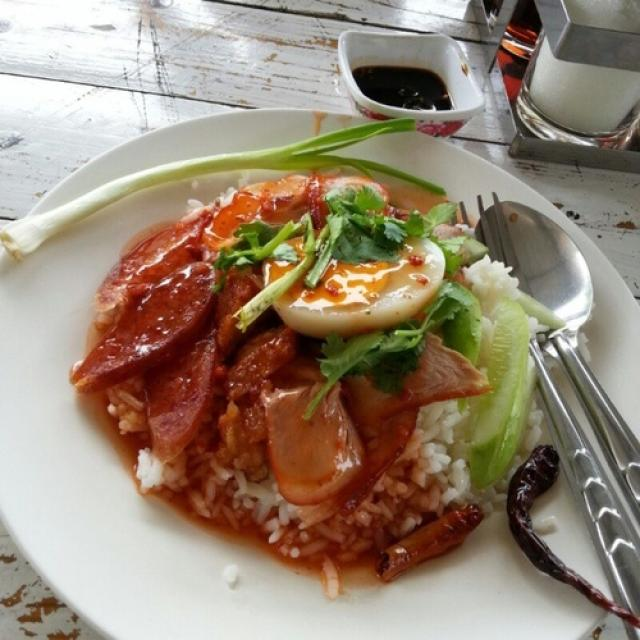猪肉菜式: (22, 69, 608, 626)
